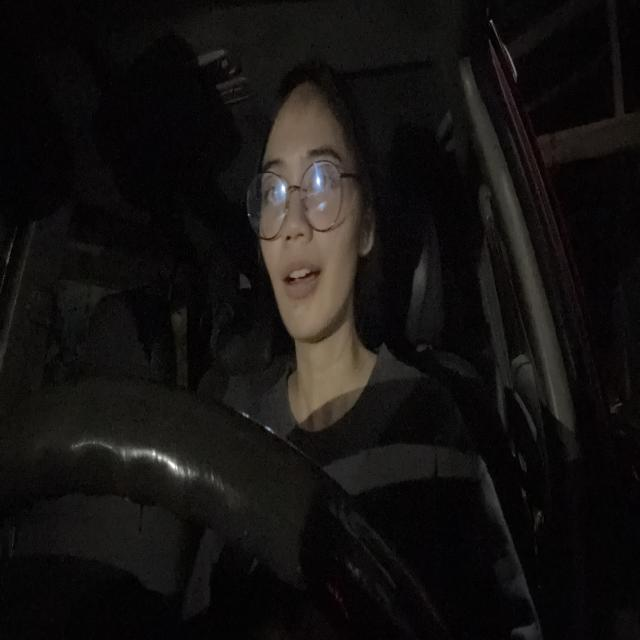open: (304, 146, 346, 204), (259, 155, 289, 216)
